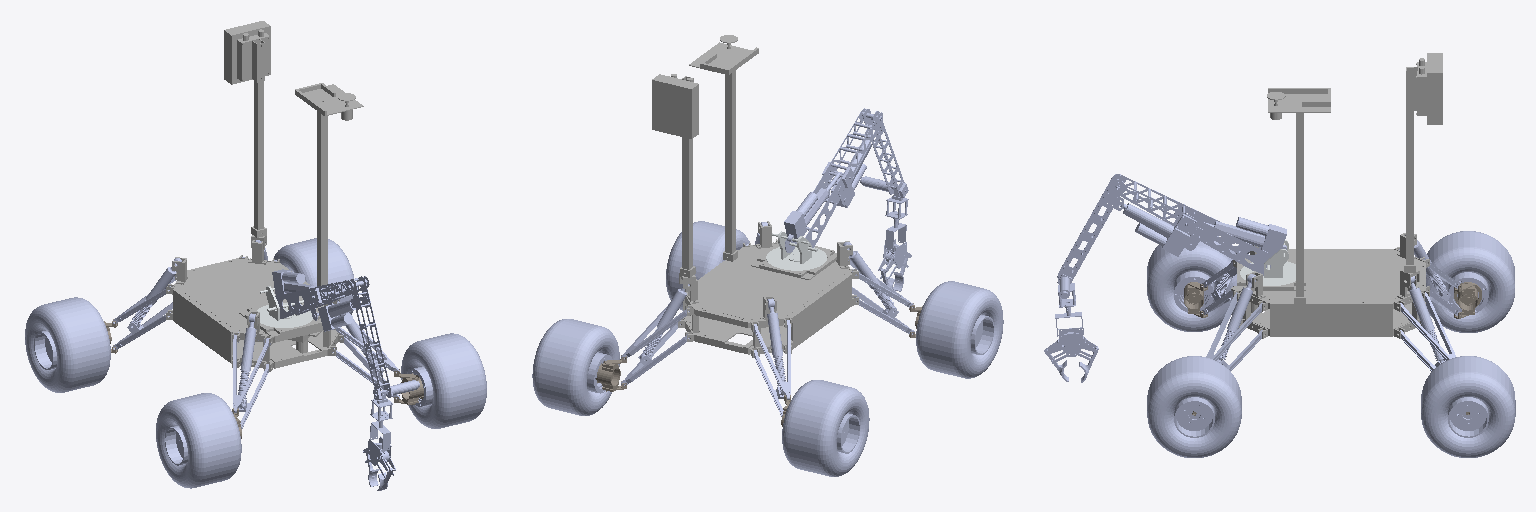
The robot description file, URDF, robot "aspha19":
<robot
  name="aspha19">
  <link
    name="base_link">
    <inertial>
      <origin
        xyz="0 0 0"
        rpy="0 0 0" />
      <mass
        value="7.6001" />
      <inertia
        ixx="1.3219"
        ixy="-0.073257"
        ixz="-0.18934"
        iyy="1.0538"
        iyz="-0.36601"
        izz="0.53596" />
    </inertial>
    <visual>
      <origin
        xyz="0 0 0"
        rpy="0 0 0" />
      <geometry>
        <mesh
          filename="package://aspha19/meshes/base_link.STL" />
      </geometry>
      <material
        name="">
        <color
          rgba="0.75294 0.75294 0.75294 1" />
      </material>
    </visual>
    <collision>
      <origin
        xyz="0 0 0"
        rpy="0 0 0" />
      <geometry>
        <mesh
          filename="package://aspha19/meshes/base_link.STL" />
      </geometry>
    </collision>
  </link>
  <link
    name="front_left_suspension">
    <inertial>
      <origin
        xyz="-1.23489679166866E-05 0.163058831353658 -0.0345657833684734"
        rpy="0 0 0" />
      <mass
        value="0.57744954582653" />
      <inertia
        ixx="0.00522446300600572"
        ixy="-7.25178419712738E-07"
        ixz="4.08720454990073E-07"
        iyy="0.00129532500857671"
        iyz="0.00104079065669802"
        izz="0.00487938058009004" />
    </inertial>
    <visual>
      <origin
        xyz="0 0 0"
        rpy="0 0 0" />
      <geometry>
        <mesh
          filename="package://aspha19/meshes/front_left_suspension.STL" />
      </geometry>
      <material
        name="">
        <color
          rgba="0.792156862745098 0.819607843137255 0.933333333333333 1" />
      </material>
    </visual>
    <collision>
      <origin
        xyz="0 0 0"
        rpy="0 0 0" />
      <geometry>
        <mesh
          filename="package://aspha19/meshes/front_left_suspension.STL" />
      </geometry>
    </collision>
  </link>
  <joint
    name="front_left_suspension_joint"
    type="fixed">
    <origin
      xyz="0.305657436080067 -0.209591418902104 -0.268825217684709"
      rpy="2.44522384910258 -2.22044604925031E-15 -2.35619449019235" />
    <parent
      link="base_link" />
    <child
      link="front_left_suspension" />
    <axis
      xyz="0 0 0" />
  </joint>
  <link
    name="wheelhub1">
    <inertial>
      <origin
        xyz="0.000648875833789753 0.0686096813664575 -0.00110756477743124"
        rpy="0 0 0" />
      <mass
        value="1.62631644973838" />
      <inertia
        ixx="0.0052848054988068"
        ixy="8.06169954995731E-05"
        ixz="-0.000332472035984539"
        iyy="0.00187498281661662"
        iyz="-0.000139301990045365"
        izz="0.00546490948897875" />
    </inertial>
    <visual>
      <origin
        xyz="0 0 0"
        rpy="0 0 0" />
      <geometry>
        <mesh
          filename="package://aspha19/meshes/wheelhub1.STL" />
      </geometry>
      <material
        name="">
        <color
          rgba="0.650980392156863 0.619607843137255 0.588235294117647 1" />
      </material>
    </visual>
    <collision>
      <origin
        xyz="0 0 0"
        rpy="0 0 0" />
      <geometry>
        <mesh
          filename="package://aspha19/meshes/wheelhub1.STL" />
      </geometry>
    </collision>
  </link>
  <joint
    name="wheelhub1_joint"
    type="fixed">
    <origin
      xyz="0.0141421356237564 -0.01338888577178 -0.0387828941625671"
      rpy="-1.36024898397276 -1.0885126333381 -2.72389457568928" />
    <parent
      link="front_left_suspension" />
    <child
      link="wheelhub1" />
    <axis
      xyz="0 0 0" />
  </joint>
  <link
    name="wheel1">
    <inertial>
      <origin
        xyz="-0.00219915010829275 1.12132525487141E-14 5.32907051820075E-15"
        rpy="0 0 0" />
      <mass
        value="11.5298327680895" />
      <inertia
        ixx="0.135971148628439"
        ixy="-1.95759281602272E-13"
        ixz="-9.49127689375518E-14"
        iyy="0.0976582051486342"
        iyz="2.42861286636753E-17"
        izz="0.0976582051486341" />
    </inertial>
    <visual>
      <origin
        xyz="0 0 0"
        rpy="0 0 0" />
      <geometry>
        <mesh
          filename="package://aspha19/meshes/wheel1.STL" />
      </geometry>
      <material
        name="">
        <color
          rgba="0.792156862745098 0.819607843137255 0.933333333333333 1" />
      </material>
    </visual>
    <collision>
      <origin
        xyz="0 0 0"
        rpy="0 0 0" />
      <geometry>
        <mesh
          filename="package://aspha19/meshes/wheel1.STL" />
      </geometry>
    </collision>
  </link>
  <joint
    name="wheel1_joint"
    type="fixed">
    <origin
      xyz="0 0.149 0"
      rpy="0.47657088949164 -3.53649951752236E-16 1.5707963267949" />
    <parent
      link="wheelhub1" />
    <child
      link="wheel1" />
    <axis
      xyz="0 0 0" />
  </joint>
  <link
    name="front_right_suspension">
    <inertial>
      <origin
        xyz="-0.0112314955943565 -0.0286039675413615 -1.11715878294838E-05"
        rpy="0 0 0" />
      <mass
        value="0.638349102221477" />
      <inertia
        ixx="0.00660343462704468"
        ixy="0.000509879575690613"
        ixz="-1.38672783226053E-07"
        iyy="0.00123306116875554"
        iyz="-9.37888227989682E-07"
        izz="0.00662184845151611" />
    </inertial>
    <visual>
      <origin
        xyz="0 0 0"
        rpy="0 0 0" />
      <geometry>
        <mesh
          filename="package://aspha19/meshes/front_right_suspension.STL" />
      </geometry>
      <material
        name="">
        <color
          rgba="0.792156862745098 0.819607843137255 0.933333333333333 1" />
      </material>
    </visual>
    <collision>
      <origin
        xyz="0 0 0"
        rpy="0 0 0" />
      <geometry>
        <mesh
          filename="package://aspha19/meshes/front_right_suspension.STL" />
      </geometry>
    </collision>
  </link>
  <joint
    name="front_right_suspension_joint"
    type="fixed">
    <origin
      xyz="-0.222547168247896 -0.126481151069874 -0.0948195310619715"
      rpy="1.57079632679489 -0.557016995263774 -2.35619449019236" />
    <parent
      link="base_link" />
    <child
      link="front_right_suspension" />
    <axis
      xyz="0 0 0" />
  </joint>
  <link
    name="wheelhub2">
    <inertial>
      <origin
        xyz="0.000667816278970224 0.0687896267946415 0.00128101206637699"
        rpy="0 0 0" />
      <mass
        value="1.44067295324072" />
      <inertia
        ixx="0.00506310485143682"
        ixy="7.17502739943455E-05"
        ixz="0.000312905220905027"
        iyy="0.00157271566079473"
        iyz="0.000144004613983536"
        izz="0.00535198399409951" />
    </inertial>
    <visual>
      <origin
        xyz="0 0 0"
        rpy="0 0 0" />
      <geometry>
        <mesh
          filename="package://aspha19/meshes/wheelhub2.STL" />
      </geometry>
      <material
        name="">
        <color
          rgba="0.650980392156863 0.619607843137255 0.588235294117647 1" />
      </material>
    </visual>
    <collision>
      <origin
        xyz="0 0 0"
        rpy="0 0 0" />
      <geometry>
        <mesh
          filename="package://aspha19/meshes/wheelhub2.STL" />
      </geometry>
    </collision>
  </link>
  <joint
    name="wheelhub2_joint"
    type="fixed">
    <origin
      xyz="0.0522406456196162 -0.209298599045751 -0.0141421356237302"
      rpy="0.867540921761676 -0.384302376036127 -2.54415175587044" />
    <parent
      link="front_right_suspension" />
    <child
      link="wheelhub2" />
    <axis
      xyz="0 0 0" />
  </joint>
  <link
    name="wheel2">
    <inertial>
      <origin
        xyz="-0.00219915010828053 5.16300668884639E-10 7.31904309381193E-09"
        rpy="0 0 0" />
      <mass
        value="11.5298327680895" />
      <inertia
        ixx="0.135971148628012"
        ixy="-8.99483616882002E-09"
        ixz="-1.27510205227592E-07"
        iyy="0.0976582051486362"
        iyz="2.99378577484077E-14"
        izz="0.0976582051490586" />
    </inertial>
    <visual>
      <origin
        xyz="0 0 0"
        rpy="0 0 0" />
      <geometry>
        <mesh
          filename="package://aspha19/meshes/wheel2.STL" />
      </geometry>
      <material
        name="">
        <color
          rgba="0.792156862745098 0.819607843137255 0.933333333333333 1" />
      </material>
    </visual>
    <collision>
      <origin
        xyz="0 0 0"
        rpy="0 0 0" />
      <geometry>
        <mesh
          filename="package://aspha19/meshes/wheel2.STL" />
      </geometry>
    </collision>
  </link>
  <joint
    name="wheel2_joint"
    type="fixed">
    <origin
      xyz="0 0.149 0"
      rpy="-0.941525343052591 -1.76898841210831E-06 1.57079915561571" />
    <parent
      link="wheelhub2" />
    <child
      link="wheel2" />
    <axis
      xyz="0 0 0" />
  </joint>
  <link
    name="back_left_suspension">
    <inertial>
      <origin
        xyz="1.1285131123584E-05 0.110860974610316 0.0439761021107281"
        rpy="0 0 0" />
      <mass
        value="0.630784303601751" />
      <inertia
        ixx="0.0059906966830212"
        ixy="3.12349846869932E-07"
        ixz="-1.46026737200908E-07"
        iyy="0.00155956608256274"
        iyz="0.00073108527294098"
        izz="0.0055624848845345" />
    </inertial>
    <visual>
      <origin
        xyz="0 0 0"
        rpy="0 0 0" />
      <geometry>
        <mesh
          filename="package://aspha19/meshes/back_left_suspension.STL" />
      </geometry>
      <material
        name="">
        <color
          rgba="0.792156862745098 0.819607843137255 0.933333333333333 1" />
      </material>
    </visual>
    <collision>
      <origin
        xyz="0 0 0"
        rpy="0 0 0" />
      <geometry>
        <mesh
          filename="package://aspha19/meshes/back_left_suspension.STL" />
      </geometry>
    </collision>
  </link>
  <joint
    name="back_left_suspension_joint"
    type="fixed">
    <origin
      xyz="0.305151982546031 0.589087999724031 -0.173901449225758"
      rpy="2.44515641287177 2.22044604925031E-14 -0.785398163397421" />
    <parent
      link="base_link" />
    <child
      link="back_left_suspension" />
    <axis
      xyz="0 0 0" />
  </joint>
  <link
    name="wheelhub3">
    <inertial>
      <origin
        xyz="0.000667816279177558 0.0687896267946382 0.00128101206625519"
        rpy="0 0 0" />
      <mass
        value="1.44067295324067" />
      <inertia
        ixx="0.00506310485143676"
        ixy="7.17502739843281E-05"
        ixz="0.000312905220905336"
        iyy="0.0015727156607948"
        iyz="0.000144004613989237"
        izz="0.00535198399409852" />
    </inertial>
    <visual>
      <origin
        xyz="0 0 0"
        rpy="0 0 0" />
      <geometry>
        <mesh
          filename="package://aspha19/meshes/wheelhub3.STL" />
      </geometry>
      <material
        name="">
        <color
          rgba="0.650980392156863 0.619607843137255 0.588235294117647 1" />
      </material>
    </visual>
    <collision>
      <origin
        xyz="0 0 0"
        rpy="0 0 0" />
      <geometry>
        <mesh
          filename="package://aspha19/meshes/wheelhub3.STL" />
      </geometry>
    </collision>
  </link>
  <joint
    name="wheelhub3_joint"
    type="fixed">
    <origin
      xyz="-0.0141421356237031 -0.0748267327173202 0.0331660209391969"
      rpy="-1.61958734151433 -1.09939154597546 -0.59962560316713" />
    <parent
      link="back_left_suspension" />
    <child
      link="wheelhub3" />
    <axis
      xyz="0 0 0" />
  </joint>
  <link
    name="wheel3">
    <inertial>
      <origin
        xyz="-0.00219915010829264 8.32667268468867E-16 1.26565424807268E-14"
        rpy="0 0 0" />
      <mass
        value="11.5298327680895" />
      <inertia
        ixx="0.135971148628439"
        ixy="-1.52758492566675E-14"
        ixz="-2.17575106642274E-13"
        iyy="0.0976582051486341"
        iyz="-1.30104260698261E-18"
        izz="0.0976582051486341" />
    </inertial>
    <visual>
      <origin
        xyz="0 0 0"
        rpy="0 0 0" />
      <geometry>
        <mesh
          filename="package://aspha19/meshes/wheel3.STL" />
      </geometry>
      <material
        name="">
        <color
          rgba="0.792156862745098 0.819607843137255 0.933333333333333 1" />
      </material>
    </visual>
    <collision>
      <origin
        xyz="0 0 0"
        rpy="0 0 0" />
      <geometry>
        <mesh
          filename="package://aspha19/meshes/wheel3.STL" />
      </geometry>
    </collision>
  </link>
  <joint
    name="wheel3_joint"
    type="fixed">
    <origin
      xyz="0 0.148999999999968 0"
      rpy="-2.51232166984499 -3.90124093617929E-16 1.5707963267949" />
    <parent
      link="wheelhub3" />
    <child
      link="wheel3" />
    <axis
      xyz="0 0 0" />
  </joint>
  <link
    name="back_right_suspension">
    <inertial>
      <origin
        xyz="1.23496905886089E-05 0.1015505276226 -0.0229263395671127"
        rpy="0 0 0" />
      <mass
        value="0.577449528608868" />
      <inertia
        ixx="0.00522279739062185"
        ixy="7.38258915211935E-07"
        ixz="4.1538425485637E-07"
        iyy="0.00130251372808011"
        iyz="-0.00104094321728589"
        izz="0.00487052554456099" />
    </inertial>
    <visual>
      <origin
        xyz="0 0 0"
        rpy="0 0 0" />
      <geometry>
        <mesh
          filename="package://aspha19/meshes/back_right_suspension.STL" />
      </geometry>
      <material
        name="">
        <color
          rgba="0.792156862745098 0.819607843137255 0.933333333333333 1" />
      </material>
    </visual>
    <collision>
      <origin
        xyz="0 0 0"
        rpy="0 0 0" />
      <geometry>
        <mesh
          filename="package://aspha19/meshes/back_right_suspension.STL" />
      </geometry>
    </collision>
  </link>
  <joint
    name="back_right_suspension_joint"
    type="fixed">
    <origin
      xyz="-0.298499582055517 0.58243559923345 -0.185166710932959"
      rpy="0.695154595625204 -2.1094237467878E-15 -2.35619449019236" />
    <parent
      link="base_link" />
    <child
      link="back_right_suspension" />
    <axis
      xyz="0 0 0" />
  </joint>
  <link
    name="wheelhub4">
    <inertial>
      <origin
        xyz="0.000648875833592077 0.0668974362201329 -0.00110756477755181"
        rpy="0 0 0" />
      <mass
        value="1.62631644973838" />
      <inertia
        ixx="0.0053363413890892"
        ixy="7.88101018322586E-05"
        ixz="-0.000332472035984279"
        iyy="0.00187498281661659"
        iyz="-0.000136217807070522"
        izz="0.00551644537926213" />
    </inertial>
    <visual>
      <origin
        xyz="0 0 0"
        rpy="0 0 0" />
      <geometry>
        <mesh
          filename="package://aspha19/meshes/wheelhub4.STL" />
      </geometry>
      <material
        name="">
        <color
          rgba="0.650980392156863 0.619607843137255 0.588235294117647 1" />
      </material>
    </visual>
    <collision>
      <origin
        xyz="0 0 0"
        rpy="0 0 0" />
      <geometry>
        <mesh
          filename="package://aspha19/meshes/wheelhub4.STL" />
      </geometry>
    </collision>
  </link>
  <joint
    name="wheelhub4_joint"
    type="fixed">
    <origin
      xyz="-0.014142135623732 -0.0747932368639902 -0.0191037450999054"
      rpy="1.7837387836954 1.08900400937611 -0.415575882065863" />
    <parent
      link="back_right_suspension" />
    <child
      link="wheelhub4" />
    <axis
      xyz="0 0 0" />
  </joint>
  <link
    name="wheel4">
    <inertial>
      <origin
        xyz="-0.0021991501082802 3.23762106013703E-09 -6.67992061664791E-09"
        rpy="0 0 0" />
      <mass
        value="11.5298327680895" />
      <inertia
        ixx="0.135971148628002"
        ixy="-5.64048793230762E-08"
        ixz="1.16375604305996E-07"
        iyy="0.097658205148717"
        iyz="-1.71310882146614E-13"
        izz="0.0976582051489875" />
    </inertial>
    <visual>
      <origin
        xyz="0 0 0"
        rpy="0 0 0" />
      <geometry>
        <mesh
          filename="package://aspha19/meshes/wheel4.STL" />
      </geometry>
      <material
        name="">
        <color
          rgba="0.792156862745098 0.819607843137255 0.933333333333333 1" />
      </material>
    </visual>
    <collision>
      <origin
        xyz="0 0 0"
        rpy="0 0 0" />
      <geometry>
        <mesh
          filename="package://aspha19/meshes/wheel4.STL" />
      </geometry>
    </collision>
  </link>
  <joint
    name="wheel4_joint"
    type="fixed">
    <origin
      xyz="0 0.149 0"
      rpy="0.47657088949437 2.02369285813618E-06 1.57079902837304" />
    <parent
      link="wheelhub4" />
    <child
      link="wheel4" />
    <axis
      xyz="0 0 0" />
  </joint>
  <link
    name="arm_base">
    <inertial>
      <origin
        xyz="3.88578058618805E-16 0.00568125616553261 0.0244953644020127"
        rpy="0 0 0" />
      <mass
        value="0.804371541939684" />
      <inertia
        ixx="0.001859226973918"
        ixy="1.69956527116034E-18"
        ixz="2.35415396938621E-18"
        iyy="0.00218352536184998"
        iyz="-0.000260084597859839"
        izz="0.00245809219381971" />
    </inertial>
    <visual>
      <origin
        xyz="0 0 0"
        rpy="0 0 0" />
      <geometry>
        <mesh
          filename="package://aspha19/meshes/arm_base.STL" />
      </geometry>
      <material
        name="">
        <color
          rgba="0.898039215686275 0.917647058823529 0.929411764705882 1" />
      </material>
    </visual>
    <collision>
      <origin
        xyz="0 0 0"
        rpy="0 0 0" />
      <geometry>
        <mesh
          filename="package://aspha19/meshes/arm_base.STL" />
      </geometry>
    </collision>
  </link>
  <joint
    name="arm_base_joint"
    type="fixed">
    <origin
      xyz="0 0 0"
      rpy="0 0 0" />
    <parent
      link="base_link" />
    <child
      link="arm_base" />
    <axis
      xyz="0 0 0" />
  </joint>
  <link
    name="shoulder">
    <inertial>
      <origin
        xyz="-8.76619166756409E-06 -0.022281868462923 -0.0212175841770852"
        rpy="0 0 0" />
      <mass
        value="1.1071380584266" />
      <inertia
        ixx="0.0299230277521029"
        ixy="-3.18351472291678E-07"
        ixz="-4.59814787855646E-07"
        iyy="0.00275249636957859"
        iyz="-0.00446880594954078"
        izz="0.027662142750081" />
    </inertial>
    <visual>
      <origin
        xyz="0 0 0"
        rpy="0 0 0" />
      <geometry>
        <mesh
          filename="package://aspha19/meshes/shoulder.STL" />
      </geometry>
      <material
        name="">
        <color
          rgba="0.792156862745098 0.819607843137255 0.933333333333333 1" />
      </material>
    </visual>
    <collision>
      <origin
        xyz="0 0 0"
        rpy="0 0 0" />
      <geometry>
        <mesh
          filename="package://aspha19/meshes/shoulder.STL" />
      </geometry>
    </collision>
  </link>
  <joint
    name="shoulder_link"
    type="fixed">
    <origin
      xyz="0 -0.182916618378996 0.162385356424993"
      rpy="-0.322072771516715 0 0" />
    <parent
      link="arm_base" />
    <child
      link="shoulder" />
    <axis
      xyz="0 0 0" />
  </joint>
  <link
    name="elbow">
    <inertial>
      <origin
        xyz="-0.000615602239353918 0.0782516719234563 0.0936728803553634"
        rpy="0 0 0" />
      <mass
        value="0.166035715211204" />
      <inertia
        ixx="0.00331925900766216"
        ixy="8.52257924684779E-06"
        ixz="4.1801311942006E-06"
        iyy="0.000378709531113929"
        iyz="-0.00051993549603689"
        izz="0.00297927873583906" />
    </inertial>
    <visual>
      <origin
        xyz="0 0 0"
        rpy="0 0 0" />
      <geometry>
        <mesh
          filename="package://aspha19/meshes/elbow.STL" />
      </geometry>
      <material
        name="">
        <color
          rgba="0.792156862745098 0.819607843137255 0.933333333333333 1" />
      </material>
    </visual>
    <collision>
      <origin
        xyz="0 0 0"
        rpy="0 0 0" />
      <geometry>
        <mesh
          filename="package://aspha19/meshes/elbow.STL" />
      </geometry>
    </collision>
  </link>
  <joint
    name="elbow_joint"
    type="fixed">
    <origin
      xyz="0.133699999999988 -0.392874599264092 -0.317090599642554"
      rpy="1.57079632679489 -0.149891544267809 -1.57079632679491" />
    <parent
      link="shoulder" />
    <child
      link="elbow" />
    <axis
      xyz="0 0 0" />
  </joint>
  <link
    name="gripper">
    <inertial>
      <origin
        xyz="0.364477793899721 0.0972191017928105 -0.0397789279287276"
        rpy="0 0 0" />
      <mass
        value="0.594133157422378" />
      <inertia
        ixx="0.00485804198706614"
        ixy="0.000463351246160372"
        ixz="2.05614454926984E-05"
        iyy="0.000711003705876188"
        iyz="0.000132119825567015"
        izz="0.0052879210944542" />
    </inertial>
    <visual>
      <origin
        xyz="0 0 0"
        rpy="0 0 0" />
      <geometry>
        <mesh
          filename="package://aspha19/meshes/gripper.STL" />
      </geometry>
      <material
        name="">
        <color
          rgba="0.792156862745098 0.819607843137255 0.933333333333333 1" />
      </material>
    </visual>
    <collision>
      <origin
        xyz="0 0 0"
        rpy="0 0 0" />
      <geometry>
        <mesh
          filename="package://aspha19/meshes/gripper.STL" />
      </geometry>
    </collision>
  </link>
  <joint
    name="gripper_joint"
    type="fixed">
    <origin
      xyz="-0.384813195111925 0.0940082421960092 0.133485059550097"
      rpy="-3.10512103756627 0.0908898808657066 -0.449513524192706" />
    <parent
      link="elbow" />
    <child
      link="gripper" />
    <axis
      xyz="0 0 0" />
  </joint>
</robot>

--- What the picture shows (computed from the rendered views, not written in the file) ---
Views: 3 orthographic renders of the robot side by side, from view 1: azimuth 30°, elevation 25°; view 2: azimuth 150°, elevation 25°; view 3: azimuth 270°, elevation 25°.
Robot: aspha19 — 17 links, 16 joints (16 fixed); root link base_link; default pose: all joints at 0.
Links seen in each view (by area): view 1: base_link, wheel4, wheel2, wheel1, shoulder, wheel3, front_right_suspension, gripper, back_right_suspension, elbow, front_left_suspension, arm_base; view 2: base_link, wheel2, wheel4, wheel3, shoulder, wheel1, back_left_suspension, back_right_suspension, front_right_suspension, gripper, arm_base, elbow (+1 smaller); view 3: base_link, wheel3, wheel1, shoulder, wheel4, wheel2, elbow, front_left_suspension, gripper, back_left_suspension, arm_base, back_right_suspension (+3 smaller).
Link boxes in pixels (x1,y1,x2,y2): base_link: (166, 21, 363, 371); wheel4: (25, 297, 110, 392); wheel2: (156, 393, 241, 488); wheel1: (401, 333, 486, 428); shoulder: (272, 269, 369, 331); wheel3: (274, 238, 353, 314); front_right_suspension: (233, 313, 270, 428); gripper: (363, 395, 395, 490); back_right_suspension: (113, 258, 181, 349); elbow: (348, 276, 419, 402); front_left_suspension: (332, 300, 399, 398); arm_base: (257, 286, 312, 327); base_link: (652, 35, 858, 357); wheel2: (916, 281, 1003, 378); wheel4: (782, 380, 869, 476); wheel3: (532, 319, 619, 415); shoulder: (784, 108, 882, 252); wheel1: (666, 221, 749, 310); back_left_suspension: (621, 284, 689, 385); back_right_suspension: (754, 298, 790, 416); front_right_suspension: (843, 242, 914, 334); gripper: (878, 188, 911, 296); arm_base: (766, 231, 826, 270); elbow: (860, 109, 908, 197); base_link: (1231, 53, 1442, 338); wheel3: (1421, 356, 1515, 457); wheel1: (1147, 356, 1241, 457); shoulder: (1112, 174, 1286, 275); wheel4: (1426, 231, 1514, 332); wheel2: (1147, 236, 1236, 331); elbow: (1057, 175, 1124, 298); front_left_suspension: (1206, 274, 1262, 371); gripper: (1044, 283, 1098, 382); back_left_suspension: (1400, 276, 1455, 371); arm_base: (1240, 240, 1295, 285); back_right_suspension: (1399, 235, 1459, 315).
Bounding box of the posed robot: 1.13 × 1.49 × 1.21 m (x, y, z).
17 mesh visuals loaded from 17 distinct referenced files (17 binary STL).
